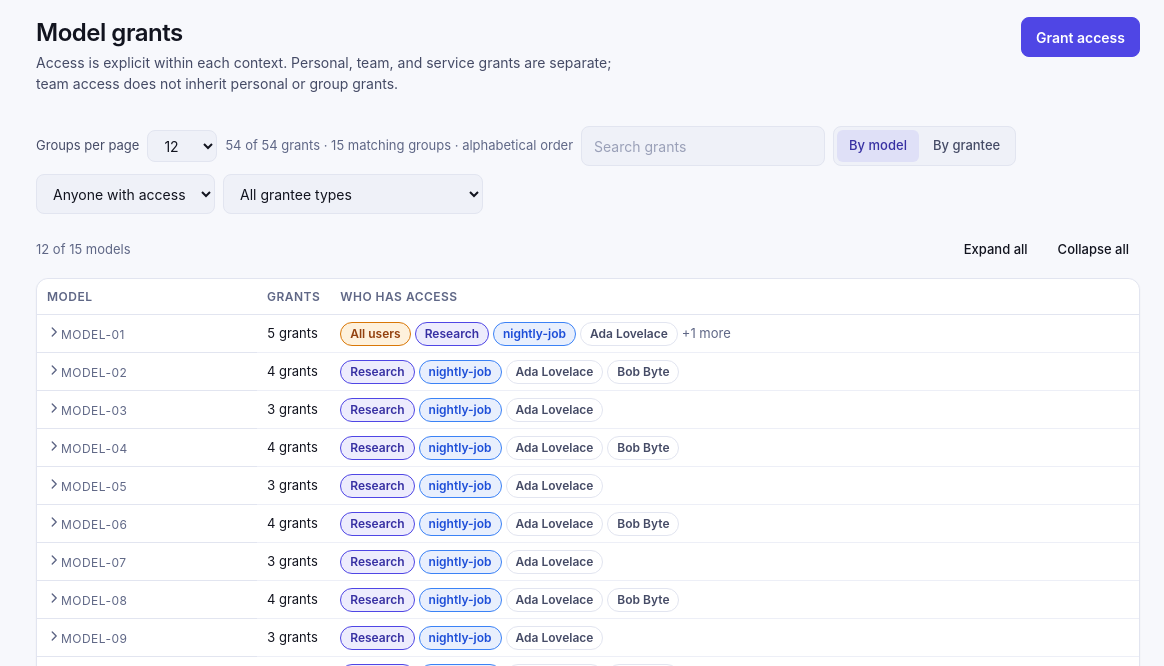
GrantsPage — scalable list › pages model rows (here twelve at a time) and collapses them to a preview
Check: the text with test id "grants-group-count" reads "12 of 15 models", box 36,241 -> 130,257
Check: the column heading "model-01" is shown, box 37,315 -> 257,353
Click the button with aria-label "Show model-01 grants": (86, 334) 47,325 -> 125,342
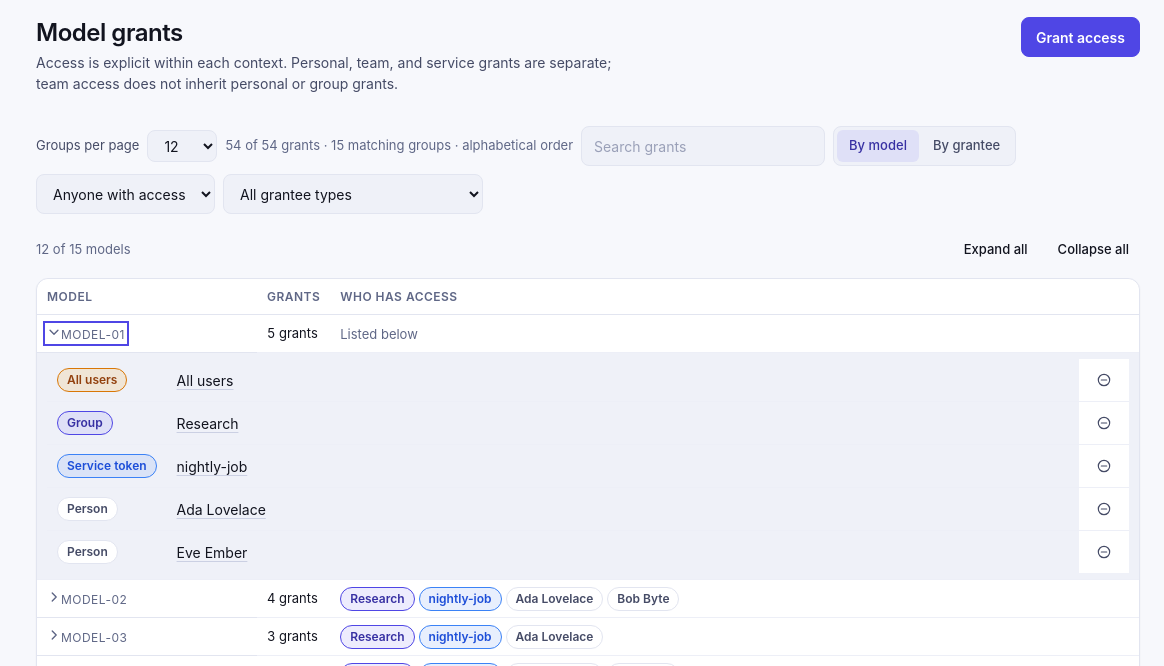
Check: the number of buttons named "Revoke" is 5, box 1089,365 -> 1119,395; 1089,408 -> 1119,438; 1089,451 -> 1119,481; 1089,494 -> 1119,524; 1089,537 -> 1119,567
Check: the text "Service token" is shown, box 57,454 -> 157,478
Check: the text "Group" is shown, box 57,411 -> 113,435
Click the button with aria-label "Hide model-01 grants": (86, 334) 47,325 -> 125,342
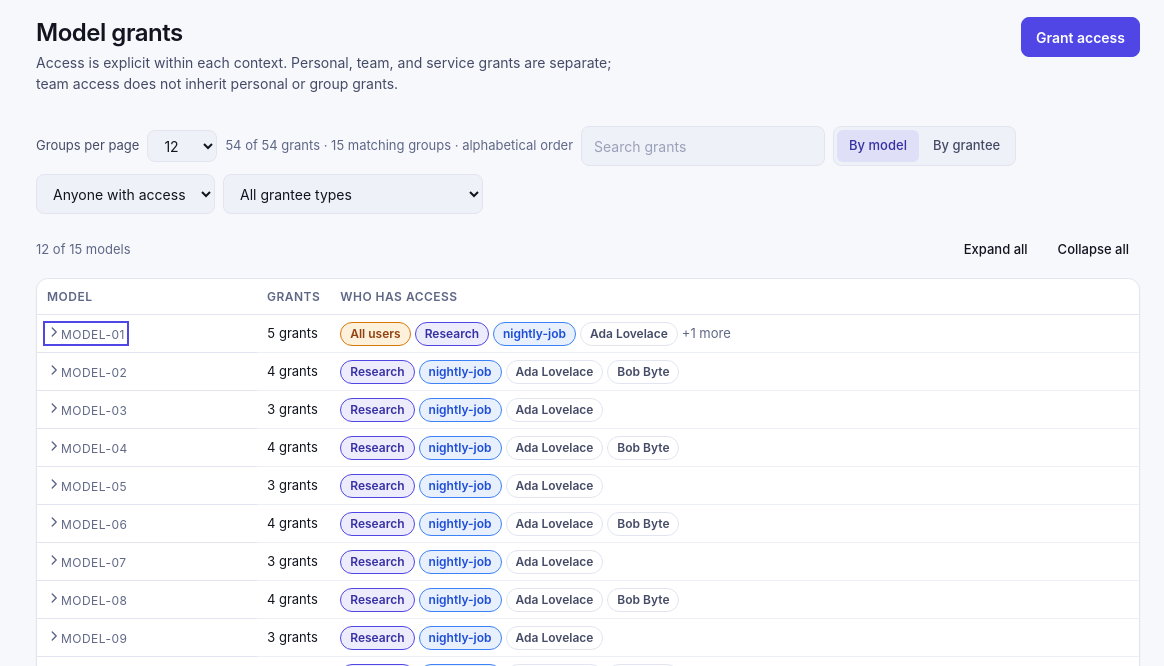
Check: the button "Revoke" is gone
Note: Expand all / collapse all.
Click the button "Expand all": (996, 250) 953,234 -> 1039,266
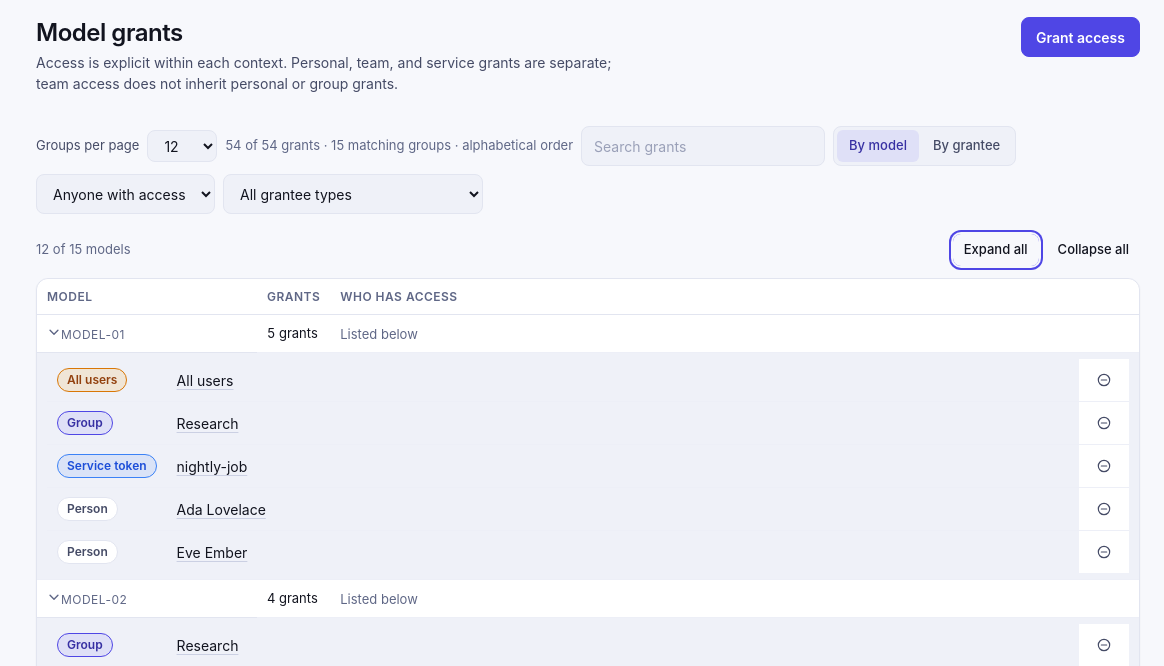
Click the button "Collapse all": (1093, 250) 1047,234 -> 1140,266
(page scrolled)
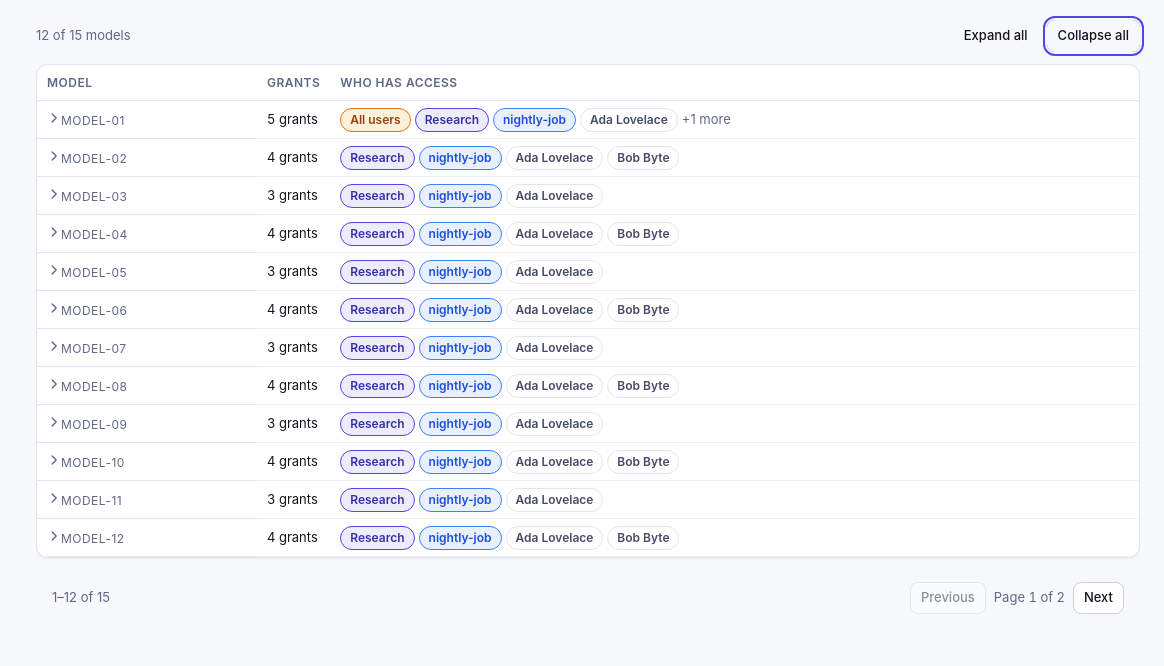
Check: the button "Revoke" is gone
Note: Page two holds the remaining three models and is in the URL.
Click the button "Next": (1098, 598) 1073,582 -> 1124,614
(page scrolled)
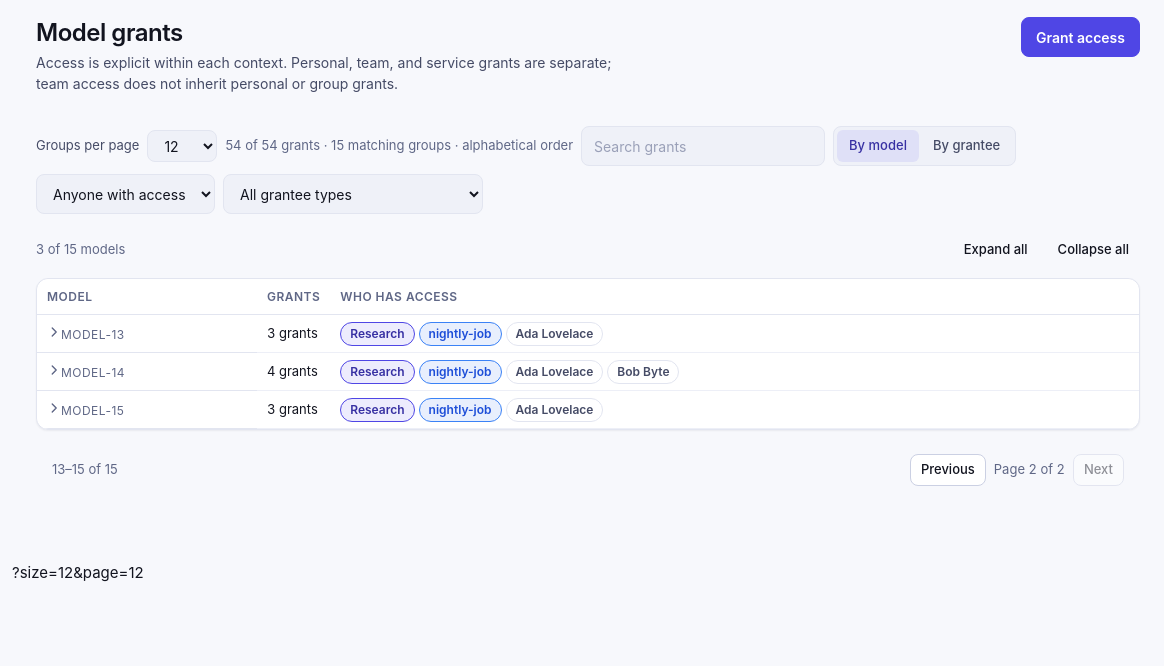
Check: the text with test id "grants-group-count" reads "3 of 15 models", box 36,241 -> 125,257
Check: the column heading "model-15" is shown, box 37,391 -> 257,429
Check: the text with test id "location" shows "page=12", box 12,563 -> 144,582
